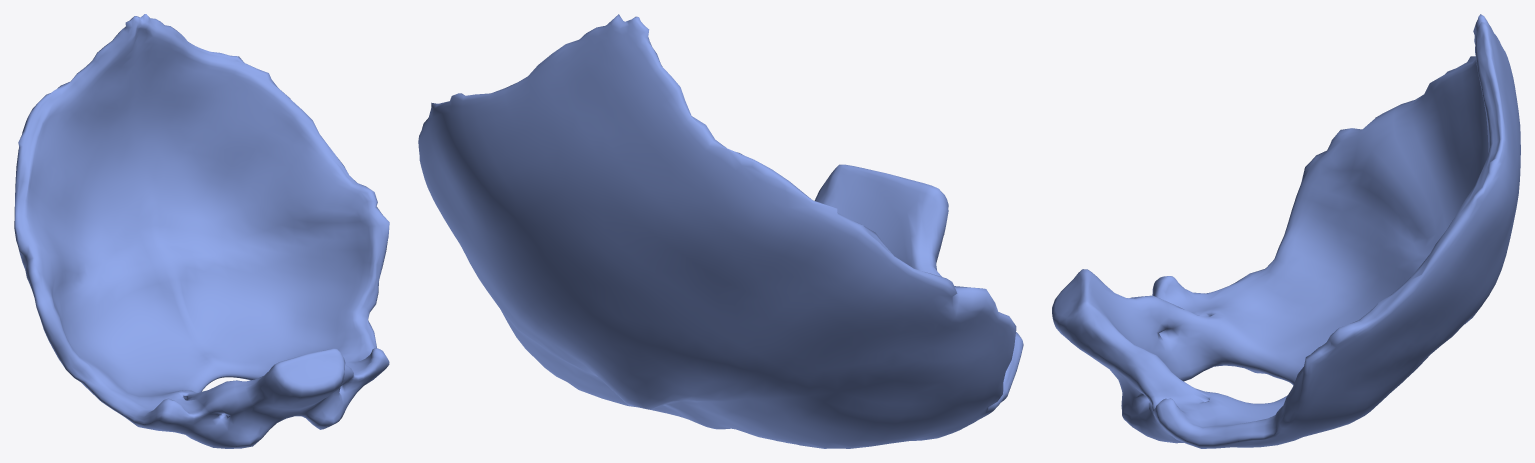
File: Occipital.glb
3 views of the same model, side by side, from view 1: azimuth 30°, elevation 25°; view 2: azimuth 150°, elevation 25°; view 3: azimuth 270°, elevation 25° (orthographic). The views are drawn at different scales.
Visible parts, largest first — view 1: Occipital; view 2: Occipital; view 3: Occipital.
Part boxes in pixels (box(x1,y1,x2,y2)): Occipital: box(14, 14, 389, 448); Occipital: box(418, 14, 1023, 448); Occipital: box(1052, 14, 1520, 448).
Size of the model in its own units: 0.1201 by 0.107 by 0.1158.
